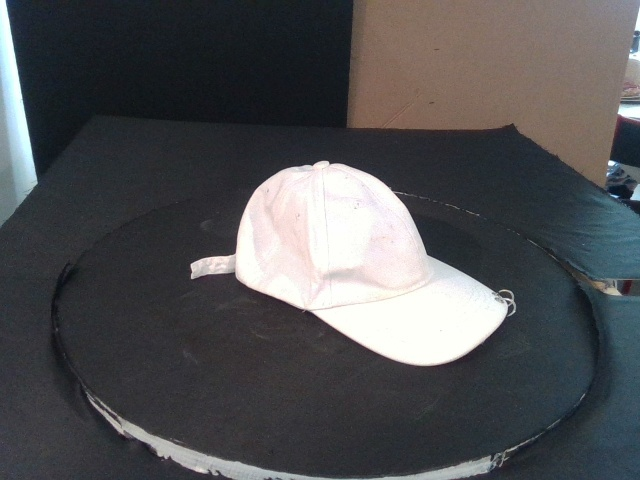hat: (235, 161, 510, 367)
